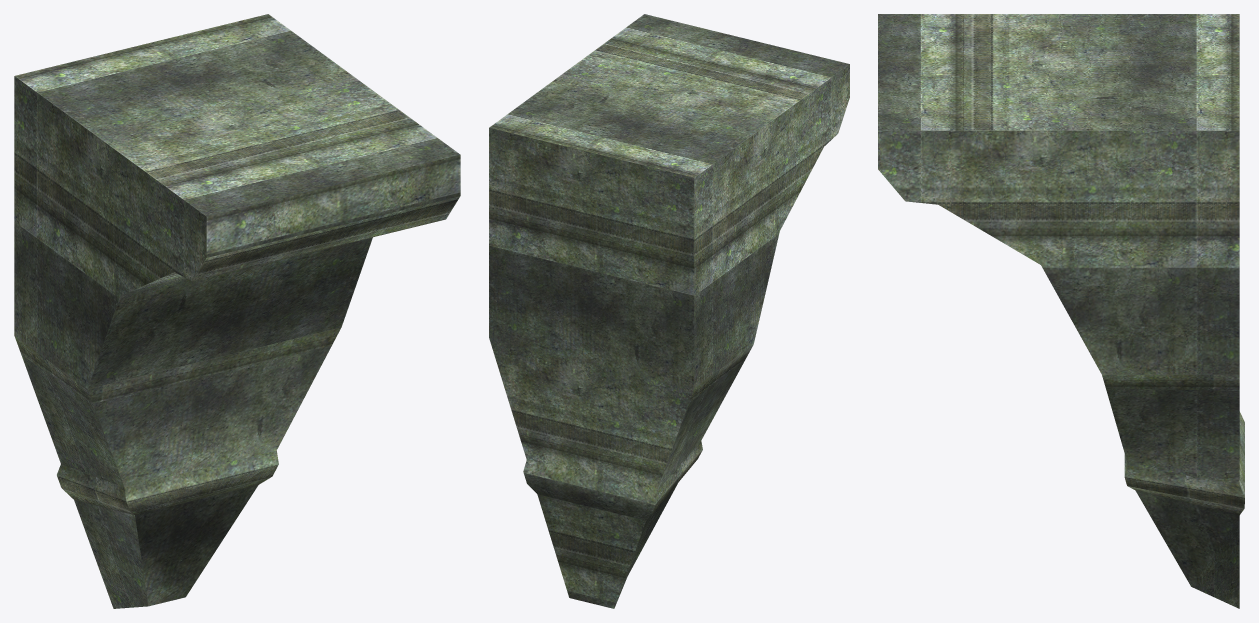
File: fitting2-1.fbx
The picture shows the model from 3 angles, left to right: view 1: azimuth 30°, elevation 25°; view 2: azimuth 150°, elevation 25°; view 3: azimuth 270°, elevation 25°; orthographic projection. The views are drawn at different scales.
Visible parts, largest first — view 1: Mesh Object; view 2: Mesh Object; view 3: Mesh Object.
Part boxes in pixels (<box>): Mesh Object: <box>14,14,460,608</box>; Mesh Object: <box>489,14,849,608</box>; Mesh Object: <box>878,14,1244,608</box>.
Bounding box in the file's own units: 0.5 × 1.05 × 0.6649.
